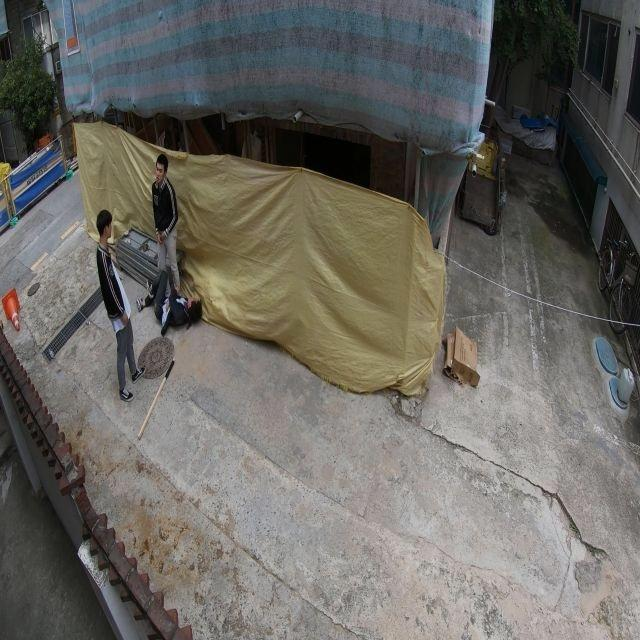fight: (142, 150, 207, 337)
non-fight: (94, 208, 142, 400)
